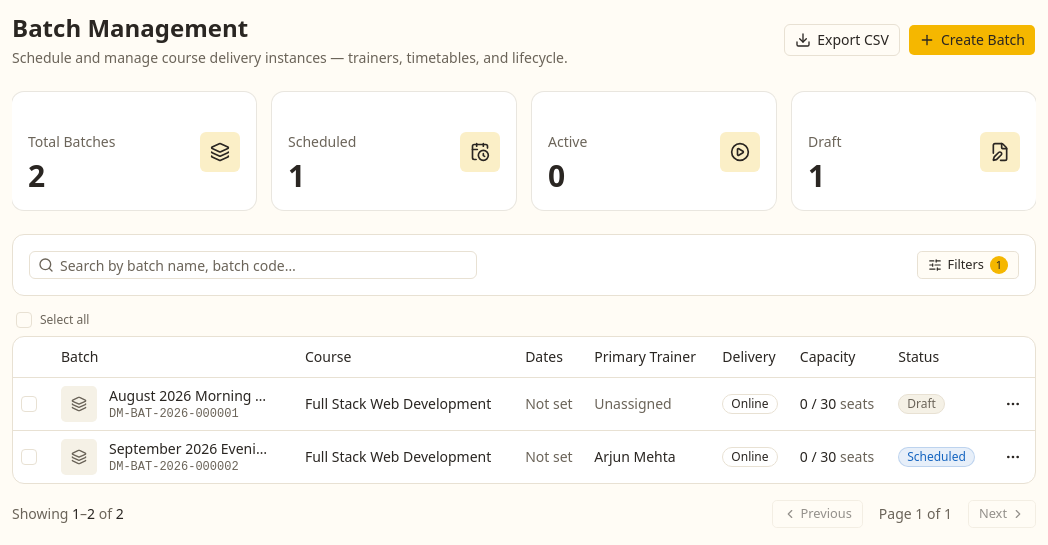
it: BatchesPage › filters the table by search
Expected: the text "August 2026 Morning Batch" is shown, [109,386,269,406]
In the field with placeholder "Search by batch name, batch code…": (265, 265) [54,249,476,281], type "September"
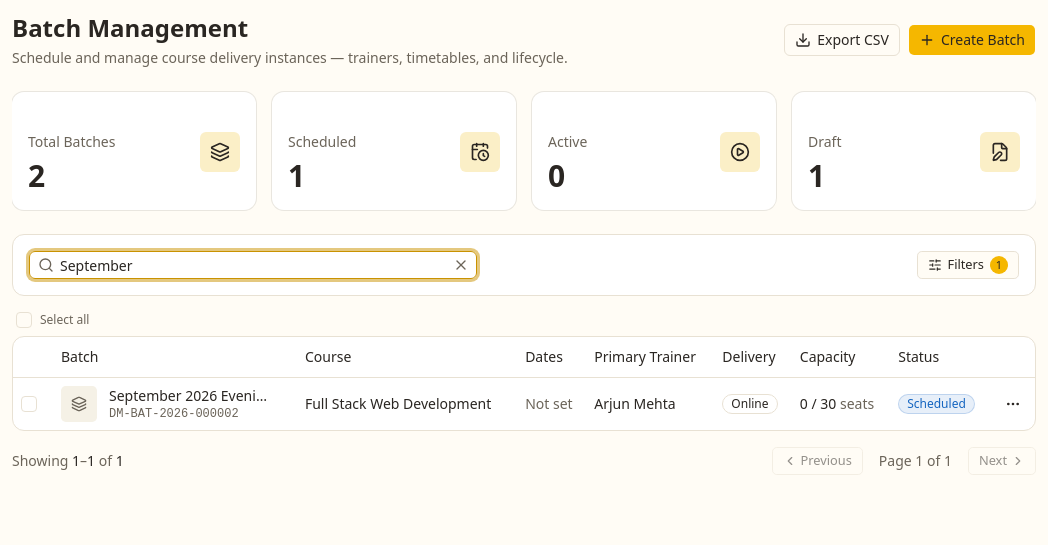
Expected: the text "September 2026 Evening Batch" is shown, [109,386,269,406]
Result: the button "August 2026 Morning Batch" is gone
